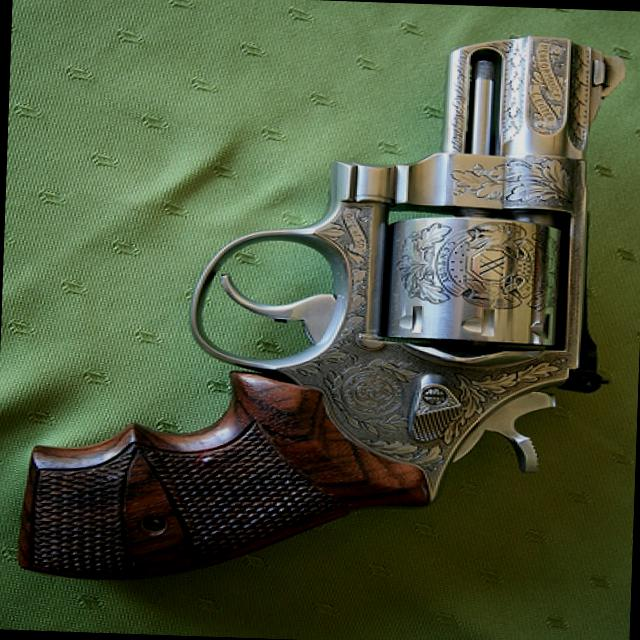handgun: (15, 15, 630, 592)
